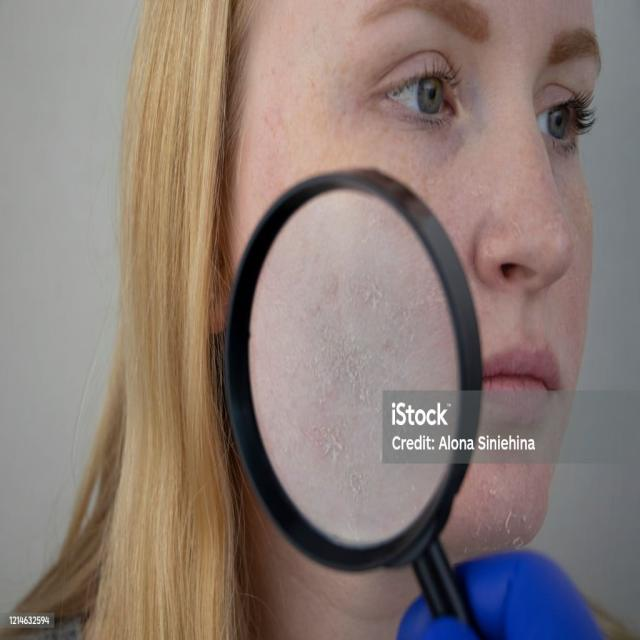Dry-Skin: (276, 327, 436, 515), (490, 148, 589, 308), (263, 52, 375, 185), (475, 432, 557, 558)
